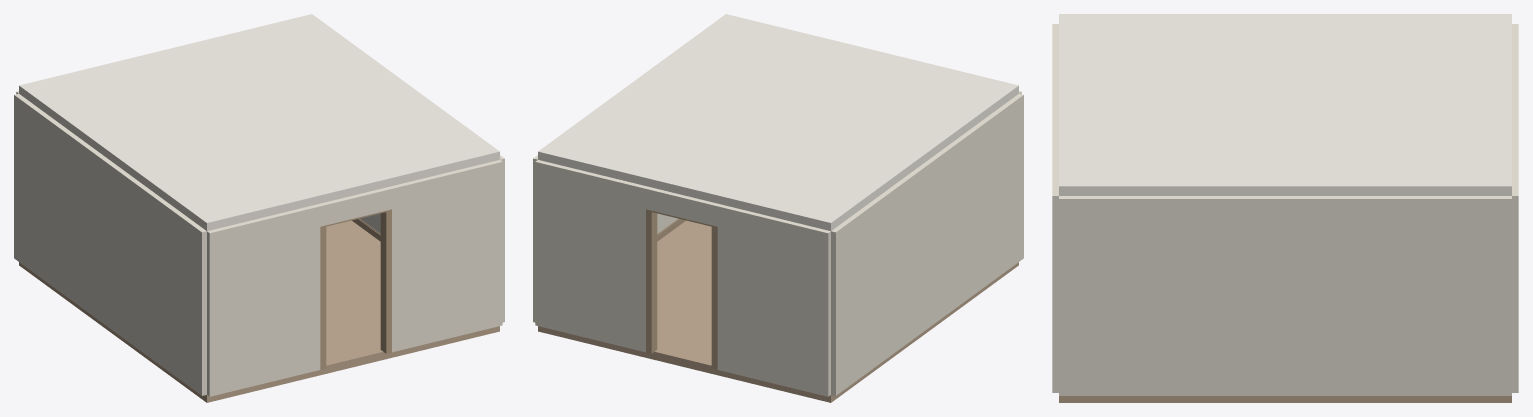
File: Shell_son_room.fbx
3 views of the same model, side by side, from view 1: azimuth 30°, elevation 25°; view 2: azimuth 150°, elevation 25°; view 3: azimuth 270°, elevation 25° (orthographic). The views are drawn at different scales.
Visible parts, largest first — view 1: Shell_son_room; view 2: Shell_son_room; view 3: Shell_son_room.
Part boxes in pixels (<box>): Shell_son_room: <box>14,14,504,402</box>; Shell_son_room: <box>533,14,1023,402</box>; Shell_son_room: <box>1052,14,1518,402</box>.
Bounding box in the file's own units: 4.65 × 2.64 × 5.15.
